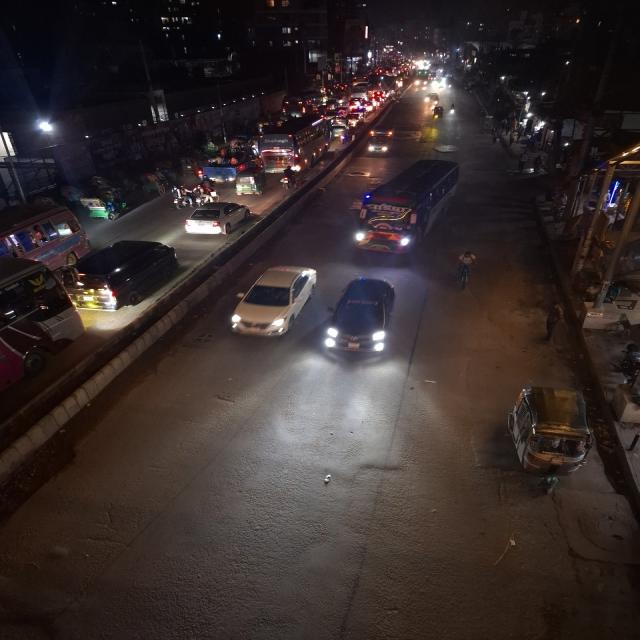bicycle: (450, 249, 482, 292)
bus: (0, 252, 78, 416), (350, 154, 463, 258), (0, 201, 87, 268), (258, 114, 335, 170)
car: (69, 235, 179, 312), (226, 262, 320, 342), (322, 274, 401, 362), (183, 199, 256, 239), (345, 112, 365, 130)
cng: (504, 383, 596, 503), (232, 168, 268, 197)
motorcycle: (616, 340, 640, 412), (167, 185, 196, 209), (196, 176, 220, 202), (278, 166, 300, 190), (448, 103, 458, 117)
pedestrian: (539, 301, 565, 341)
rickshaw: (75, 185, 131, 221)
truck: (201, 146, 257, 180), (366, 125, 398, 158)
